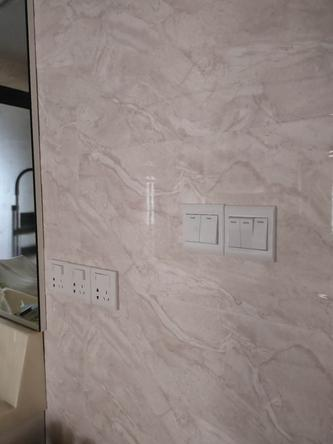switch: (184, 213, 218, 247), (261, 223, 279, 260), (230, 217, 239, 254), (247, 220, 254, 261), (50, 265, 65, 281), (72, 270, 86, 283), (95, 275, 114, 283)
